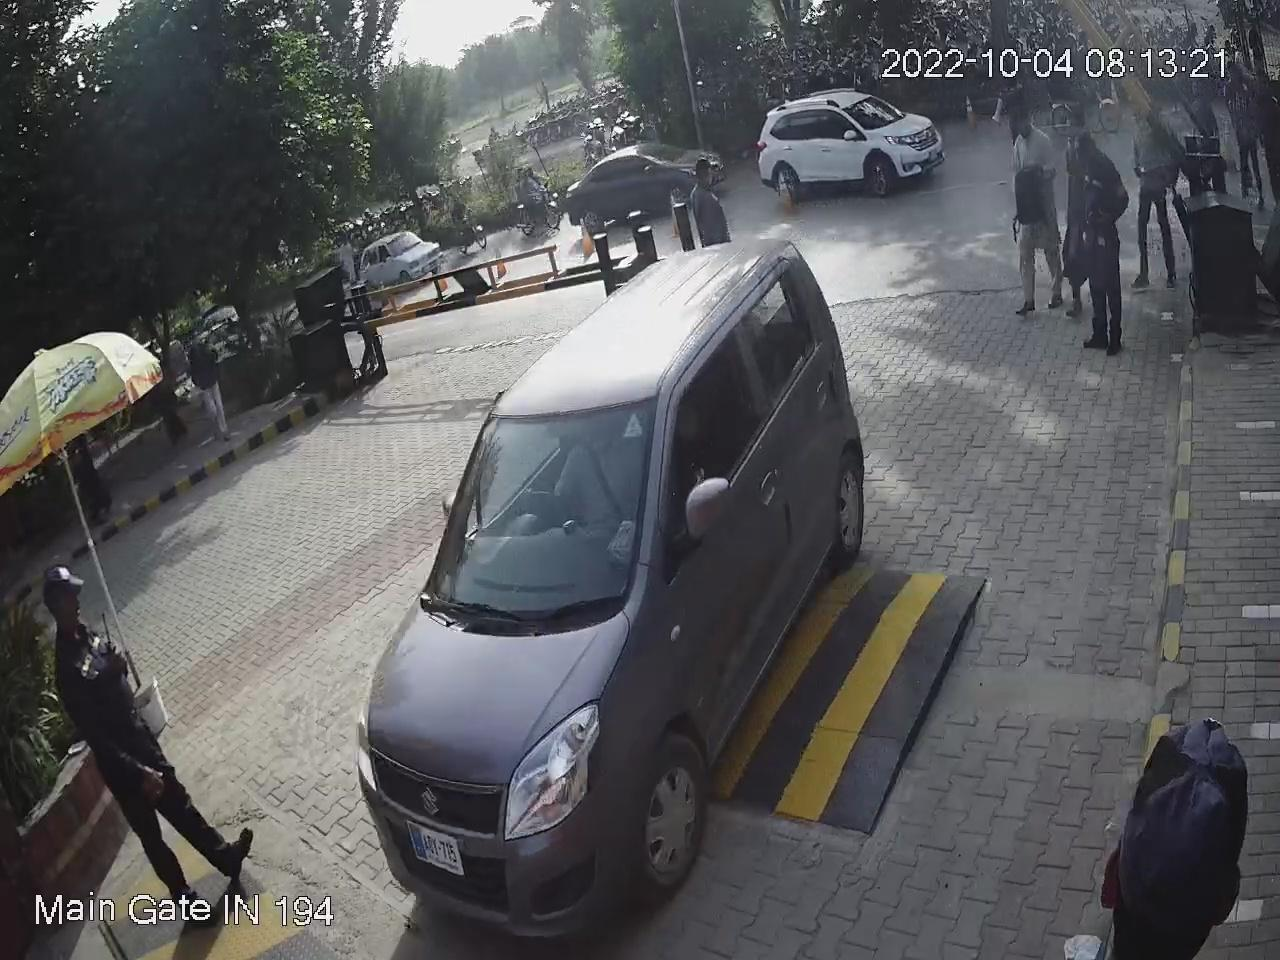windshield: (415, 377, 653, 632)
